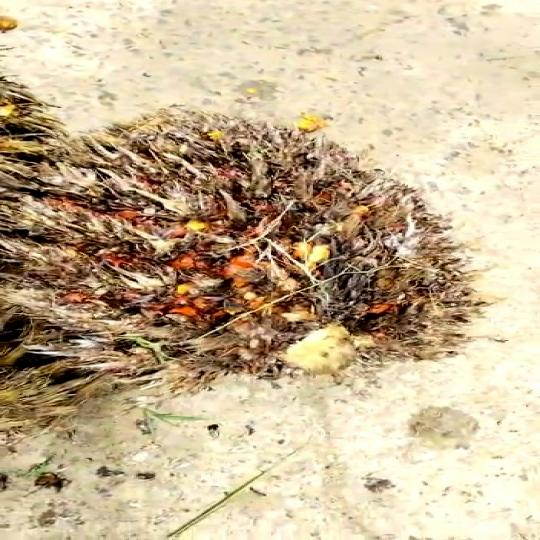terlalu masak: (0, 110, 485, 373)
